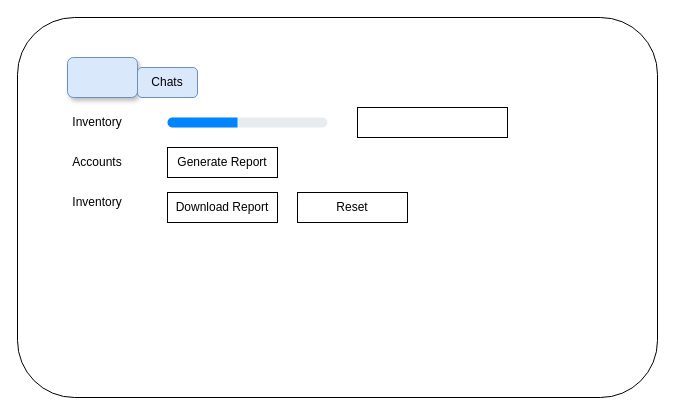
Some shapes in this 675 by 415 pixel diagram are drawn without their labels. Each missing label, with the centre of its shape:
Cancel Generating Report: (x=432, y=122)
Reports: (x=103, y=78)
